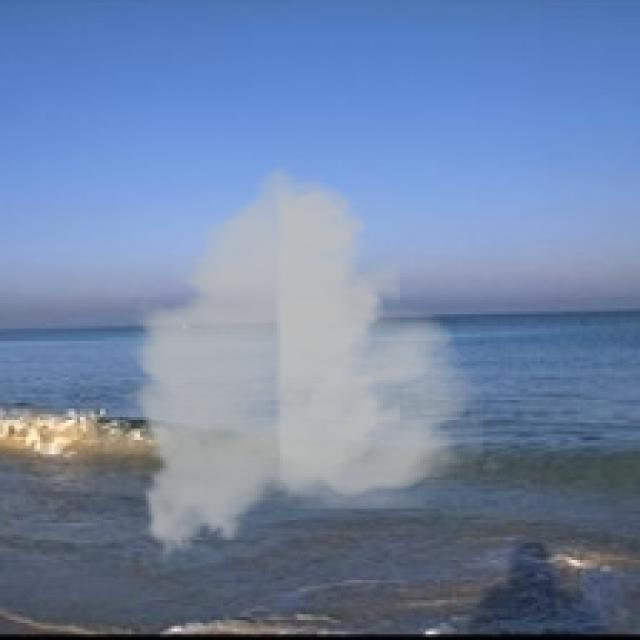Smoke: (120, 154, 483, 572)
